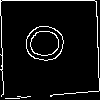O: (25, 23, 72, 64)
